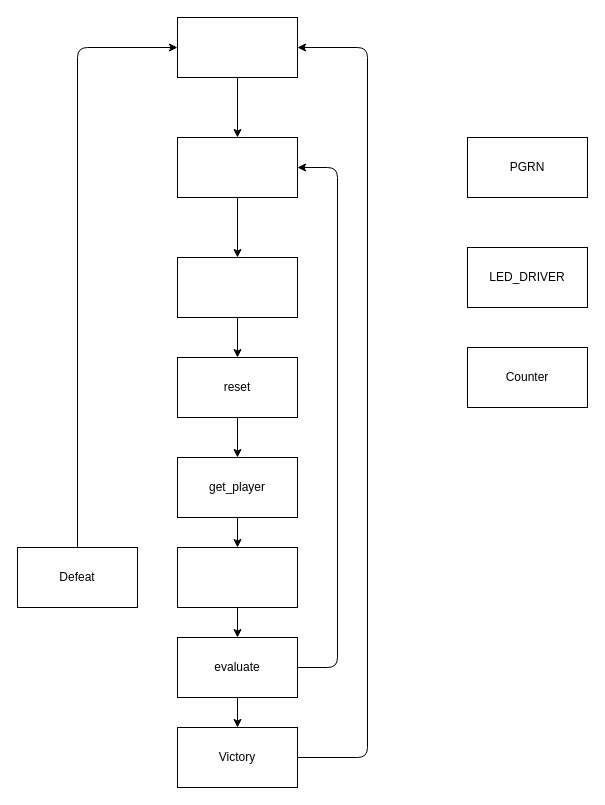
Image size: 605x805. Some labels were removed from this diagram. Here are the shapes that lost their labels. From the top down, the centre of each, then its label:
(237,47): IDLE
(237,167): Generate
(237,287): Show_Leds
(237,577): compare
